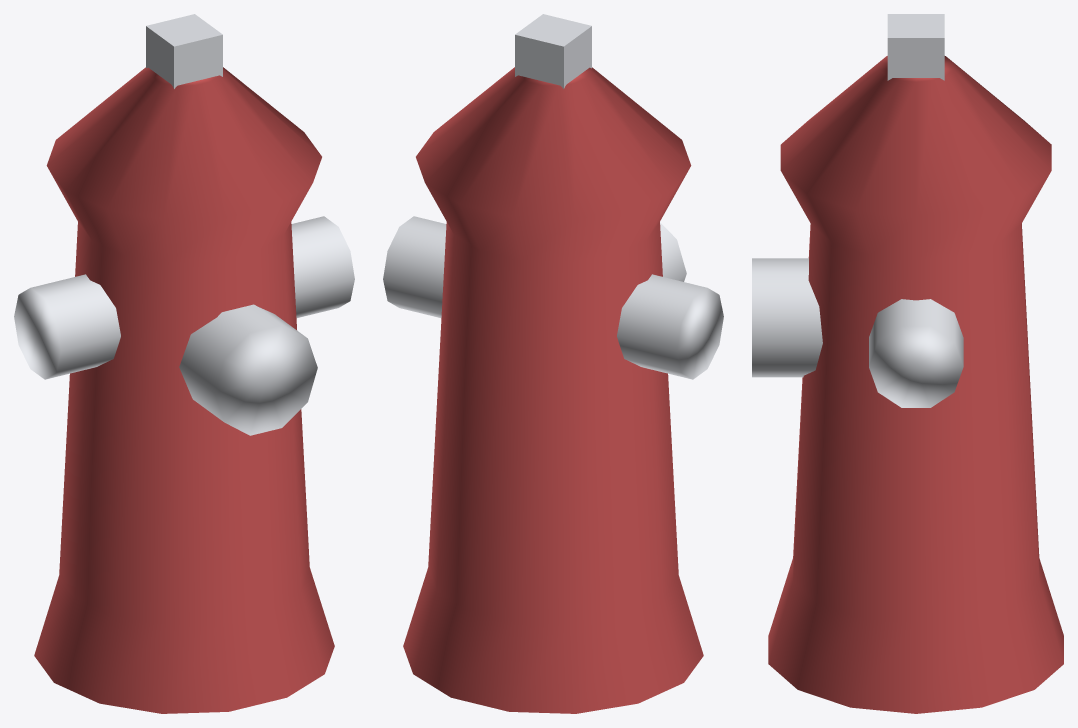
File: urb_fire_hydrant.glb
3 renders of one model, left to right at view 1: azimuth 30°, elevation 25°; view 2: azimuth 150°, elevation 25°; view 3: azimuth 270°, elevation 25°, orthographic.
Visible parts, largest first — view 1: hydrant, caps; view 2: hydrant, caps; view 3: hydrant, caps.
Boxes of the visible parts, bbox=[...] form: hydrant: bbox=[34, 67, 334, 713]; caps: bbox=[14, 14, 354, 435]; hydrant: bbox=[403, 67, 703, 713]; caps: bbox=[383, 14, 723, 379]; hydrant: bbox=[768, 56, 1063, 713]; caps: bbox=[752, 14, 963, 407].
Bounding box in the file's own units: 0.54 × 1.09 × 0.494.
